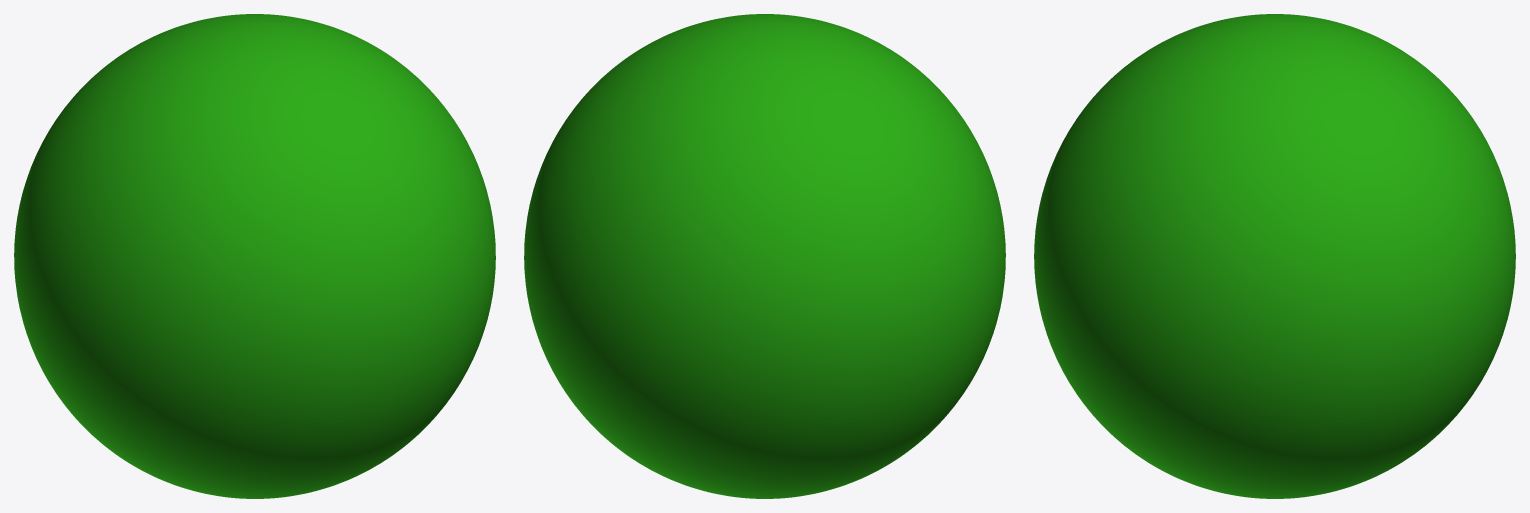
File: cronopiosv.glb
The picture shows the model from 3 angles, left to right: view 1: azimuth 30°, elevation 25°; view 2: azimuth 150°, elevation 25°; view 3: azimuth 270°, elevation 25°; orthographic projection.
Parts seen in each view (by area): view 1: Esfera; view 2: Esfera; view 3: Esfera.
Part boxes in pixels (x1=…): Esfera: x1=14, y1=14, x2=495, y2=498; Esfera: x1=524, y1=14, x2=1005, y2=498; Esfera: x1=1034, y1=14, x2=1515, y2=498.
Size of the model in its own units: 1.97 by 1.99 by 1.97.
